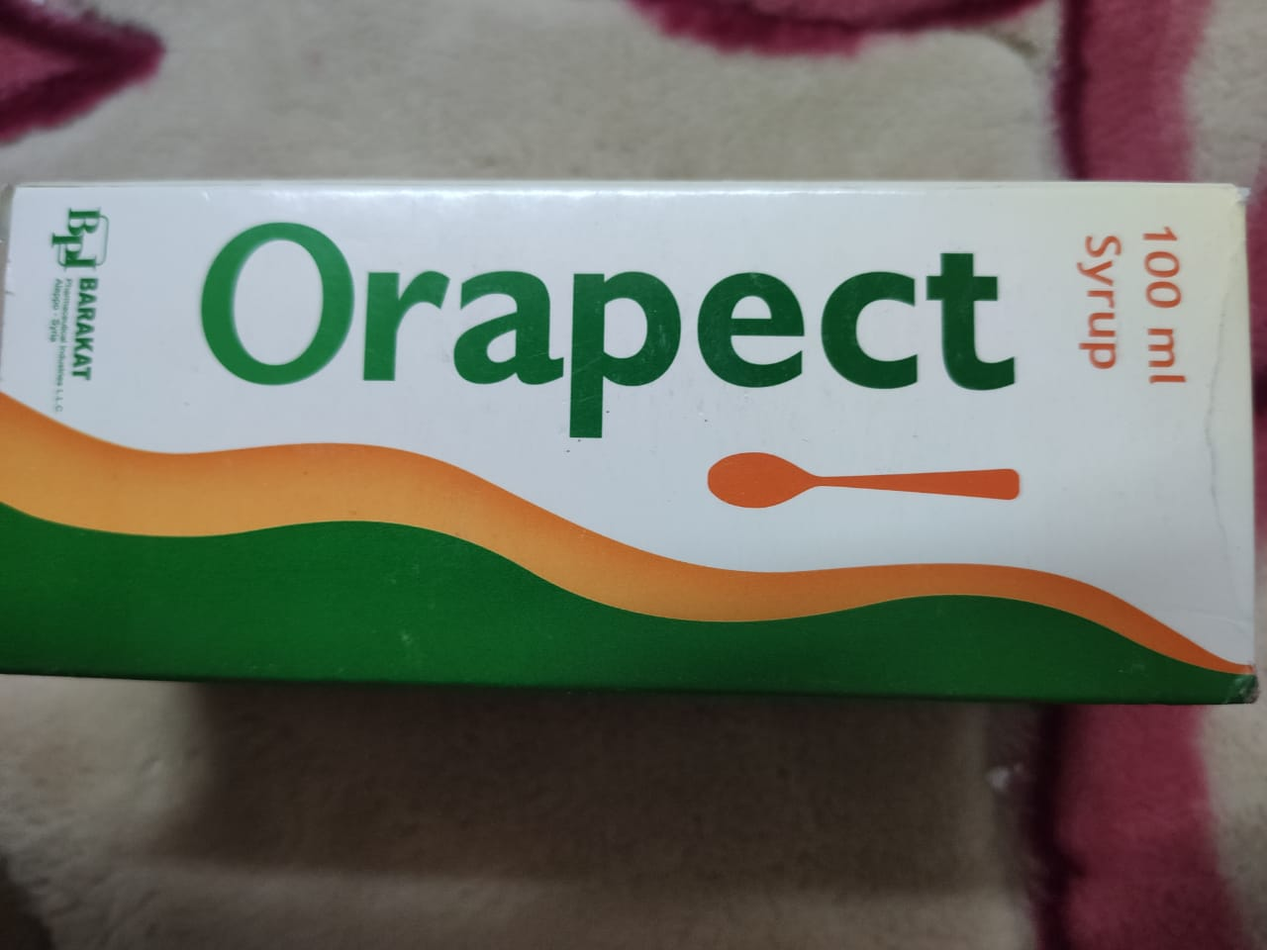Medicine: (0, 176, 1267, 722)
